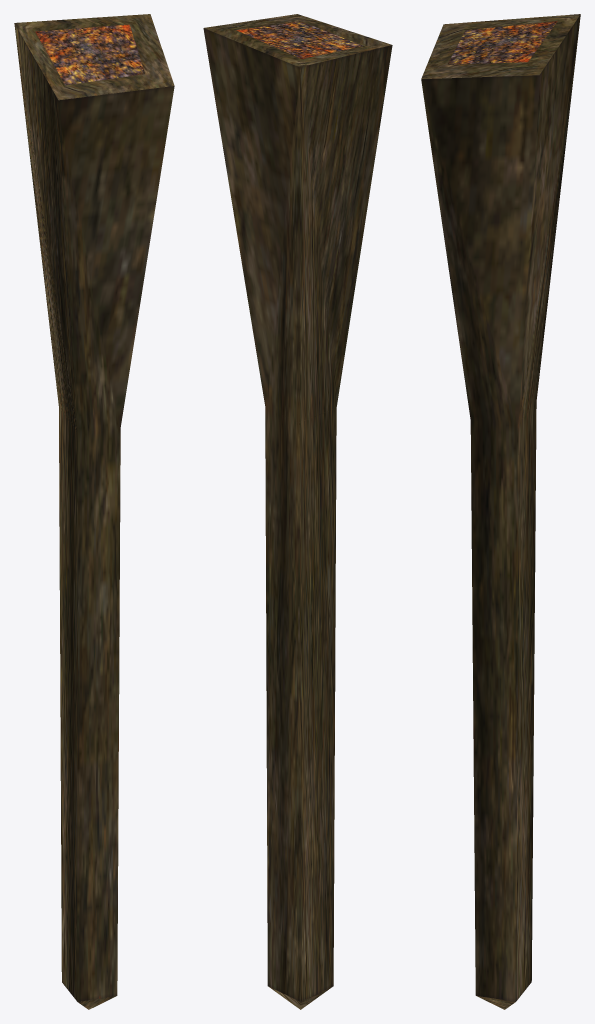
Rendered from thm_endr_tiki_torch_s01_l2_torch.fbx.
3 views of the same model, side by side, from view 1: azimuth 30°, elevation 25°; view 2: azimuth 150°, elevation 25°; view 3: azimuth 270°, elevation 25° (orthographic).
Visible parts, largest first — view 1: mesh_node; view 2: mesh_node; view 3: mesh_node.
Boxes of the visible parts, bbox=[...] form: mesh_node: bbox=[14, 14, 174, 1009]; mesh_node: bbox=[203, 14, 392, 1009]; mesh_node: bbox=[421, 14, 580, 1009].
Size of the model in its own units: 0.234 by 1.55 by 0.2296.
